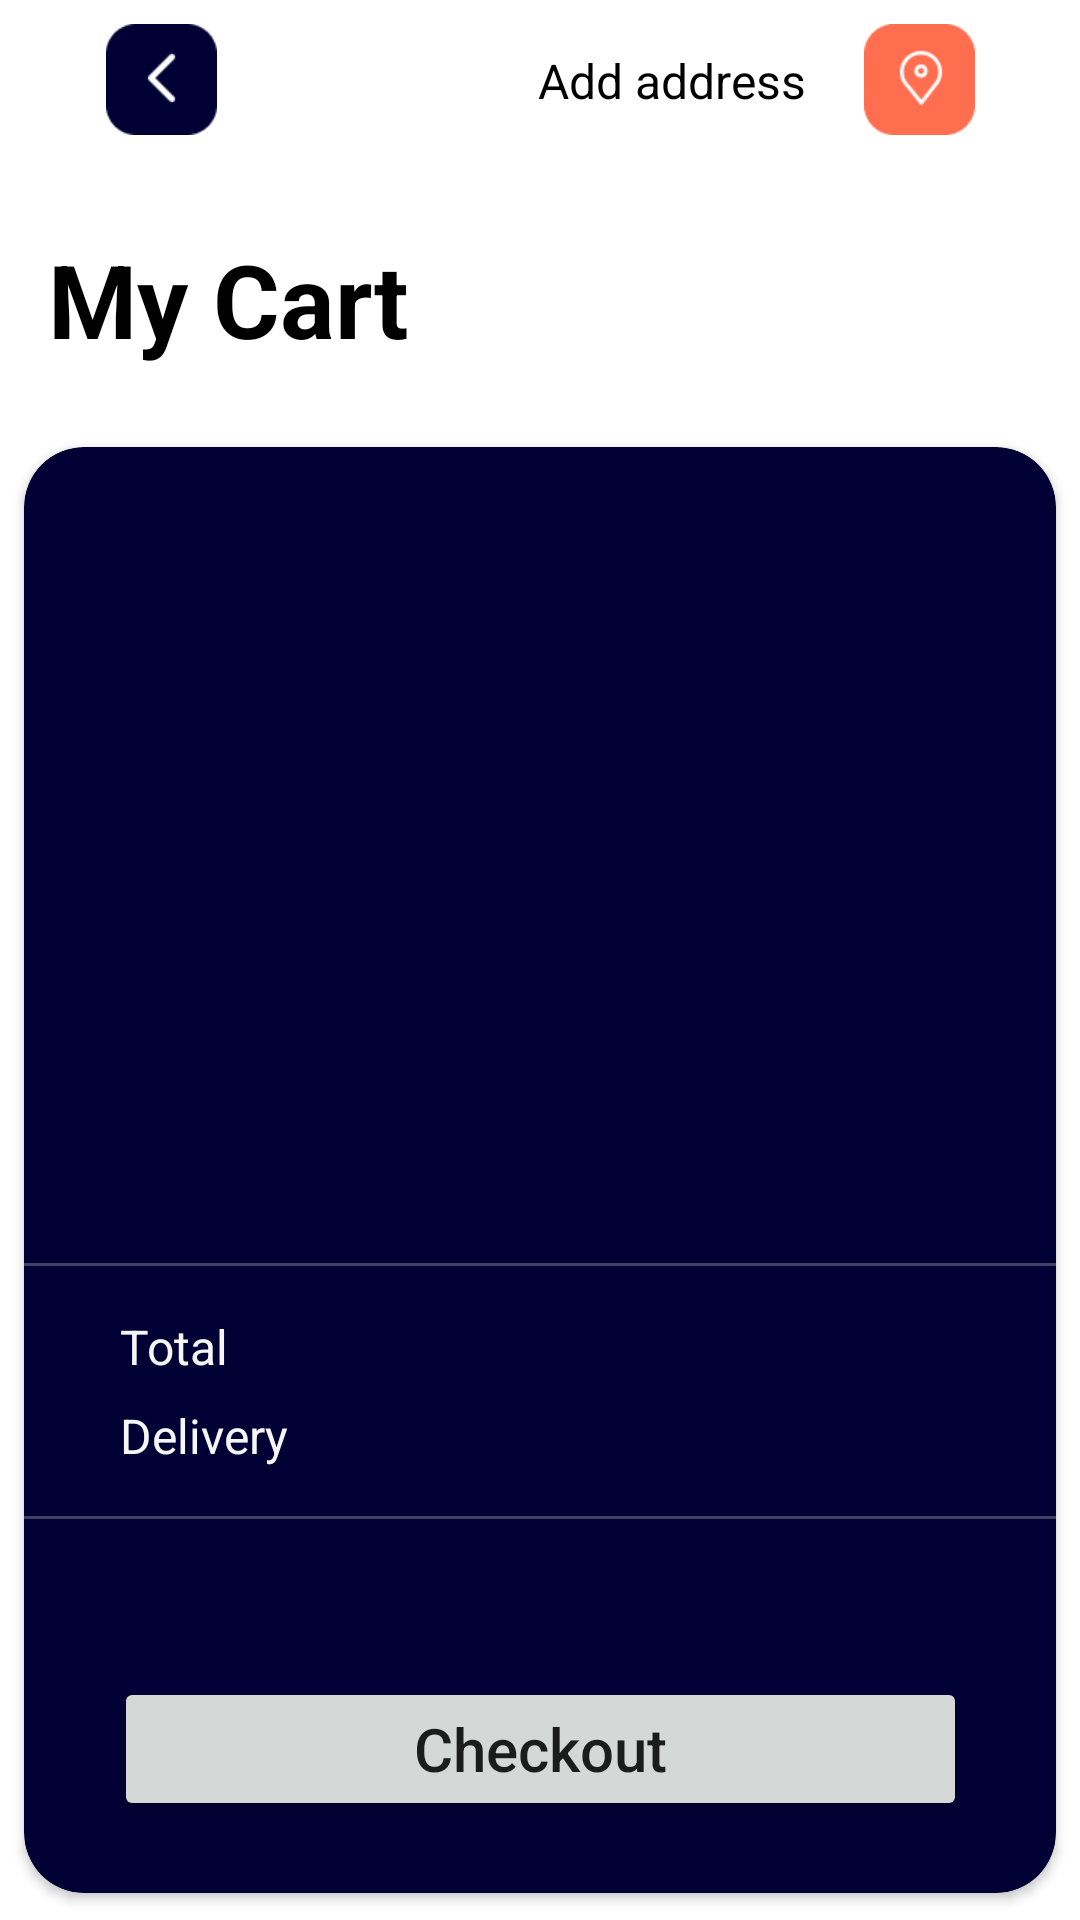

Icon click points for this 1080w x 1920h phone screenshot, format (x,y):
cart address: (919,79)
product details back: (161,79)
